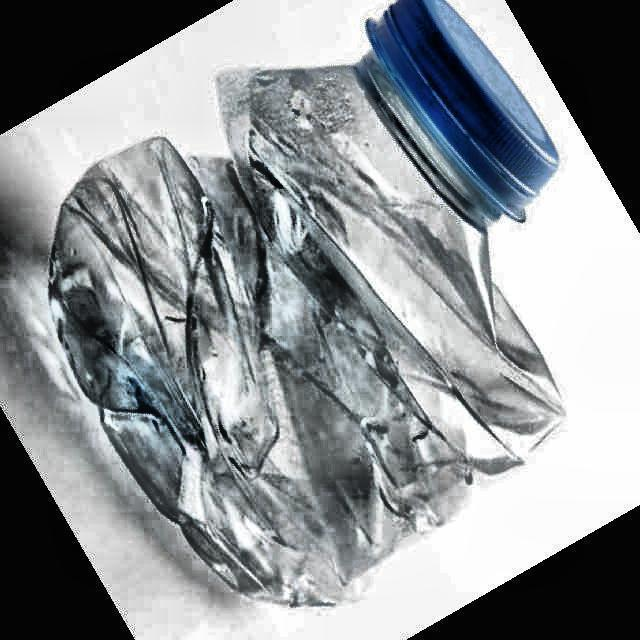plastic: (49, 0, 562, 604)
